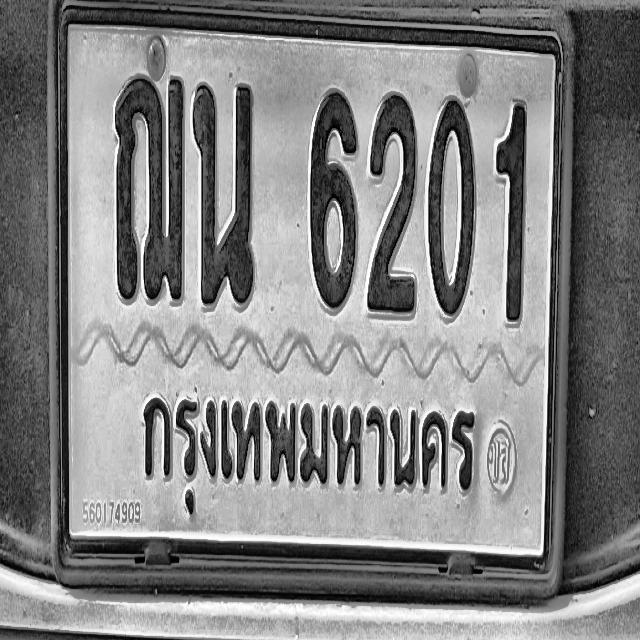license-plate: (41, 0, 564, 614)
